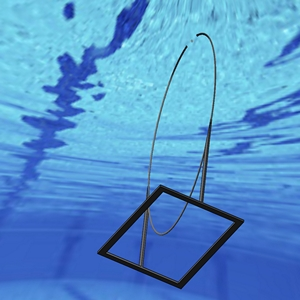circle: (94, 30, 246, 289)
